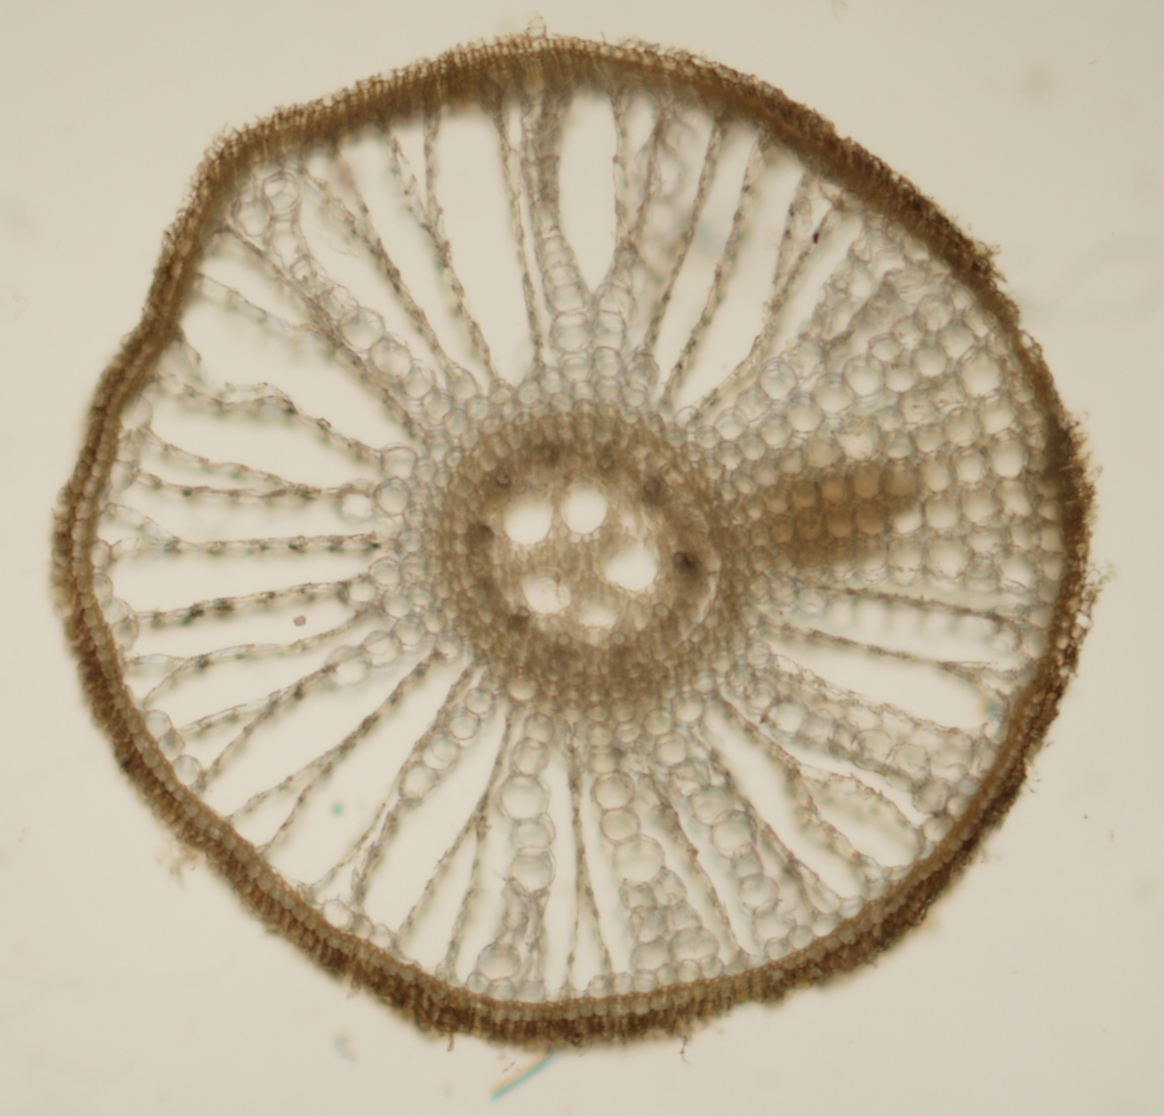lm: (601, 541, 658, 590), (503, 490, 554, 544), (558, 478, 607, 533), (519, 569, 573, 613), (574, 592, 618, 625)
